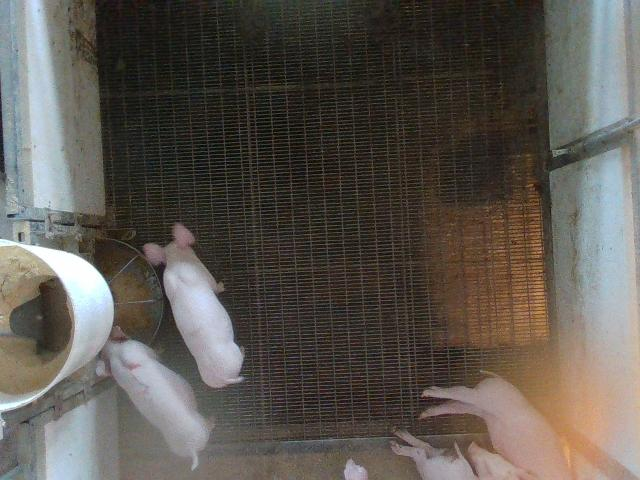pig-5: (96, 326, 214, 469)
